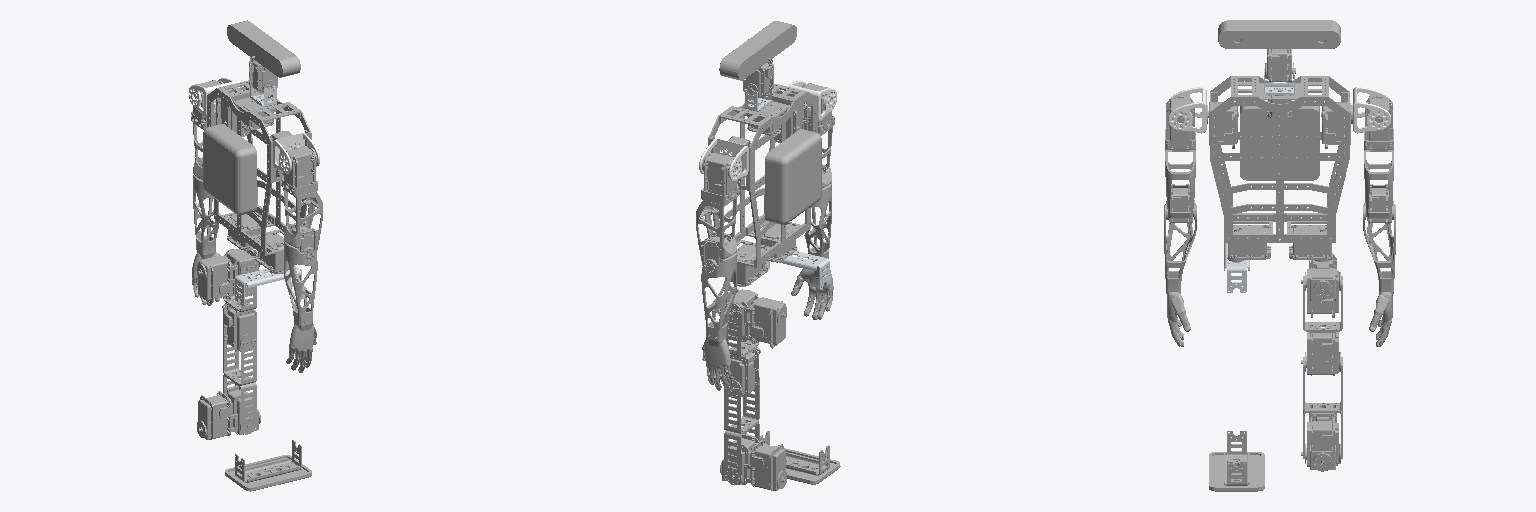
--- Facts derived from the render (not from the file) ---
3 views of the same robot in one strip: view 1: azimuth 30°, elevation 25°; view 2: azimuth 150°, elevation 25°; view 3: azimuth 270°, elevation 25° (orthographic).
Robot: humanoid — 21 links, 20 joints (20 continuous); root link torso; default pose: all joints at 0.
Visible links, largest first — view 1: torso, arm_r_shou_r, head_t, arm_r_elbow, leg_r_ankle_r, leg_l_ankle_p, leg_l_hip_r, leg_l_knee, leg_l_hip_p, arm_l_elbow, arm_r_shou_p, leg_r_hip_y (+2 smaller); view 2: torso, arm_l_shou_r, head_t, arm_l_elbow, leg_l_ankle_p, leg_l_hip_r, arm_r_elbow, leg_l_knee, leg_l_hip_p, leg_r_ankle_r, arm_l_shou_p, arm_r_shou_r (+2 smaller); view 3: torso, head_t, arm_r_shou_r, arm_l_shou_r, leg_r_ankle_r, arm_r_elbow, arm_l_elbow, leg_l_hip_p, leg_l_ankle_p, leg_l_hip_r, arm_r_shou_p, arm_l_shou_p (+2 smaller).
Link boxes in pixels (bbox=[...]): torso: bbox=[203, 80, 311, 273]; arm_r_shou_r: bbox=[281, 146, 322, 255]; head_t: bbox=[227, 20, 300, 94]; arm_r_elbow: bbox=[284, 241, 317, 372]; leg_r_ankle_r: bbox=[225, 440, 311, 491]; leg_l_ankle_p: bbox=[197, 386, 260, 439]; leg_l_hip_r: bbox=[197, 249, 260, 303]; leg_l_knee: bbox=[223, 339, 256, 429]; leg_l_hip_p: bbox=[222, 266, 256, 351]; arm_l_elbow: bbox=[192, 175, 219, 305]; arm_r_shou_p: bbox=[273, 133, 319, 173]; leg_r_hip_y: bbox=[235, 266, 301, 305]; torso: bbox=[708, 84, 821, 286]; arm_l_shou_r: bbox=[696, 153, 739, 268]; head_t: bbox=[719, 21, 796, 97]; arm_l_elbow: bbox=[701, 252, 736, 390]; leg_l_ankle_p: bbox=[720, 434, 786, 490]; leg_l_hip_r: bbox=[725, 289, 786, 348]; arm_r_elbow: bbox=[791, 183, 833, 319]; leg_l_knee: bbox=[724, 377, 759, 480]; leg_l_hip_p: bbox=[724, 308, 760, 397]; leg_r_ankle_r: bbox=[760, 431, 840, 484]; arm_l_shou_p: bbox=[699, 138, 748, 181]; arm_r_shou_r: bbox=[800, 83, 834, 187]; torso: bbox=[1207, 76, 1352, 261]; head_t: bbox=[1218, 20, 1340, 81]; arm_r_shou_r: bbox=[1165, 96, 1195, 223]; arm_l_shou_r: bbox=[1364, 96, 1393, 223]; leg_r_ankle_r: bbox=[1209, 431, 1264, 491]; arm_r_elbow: bbox=[1164, 200, 1196, 346]; arm_l_elbow: bbox=[1363, 201, 1395, 346]; leg_l_hip_p: bbox=[1301, 276, 1342, 375]; leg_l_ankle_p: bbox=[1301, 413, 1340, 471]; leg_l_hip_r: bbox=[1301, 253, 1342, 317]; arm_r_shou_p: bbox=[1168, 87, 1206, 133]; arm_l_shou_p: bbox=[1353, 87, 1390, 133].
Size in the robot's own frame: 0.12 by 0.3297 by 0.7175 metres.
15 mesh visuals loaded from 21 distinct referenced files (15 binary STL); not drawn: 6 (reference not matched to a file when rendering).

The robot description file, URDF, robot "humanoid":
<robot
  name="humanoid">
  <link name="torso">
    <inertial>
      <origin
        xyz="-0.0273890624666731 -6.24390539272213E-11 0.0090874604275595"
        rpy="0 0 0" />
      <mass
        value="1.79837714981727" />
      <inertia
        ixx="0.00965569591913053"
        ixy="2.62519057565357E-11"
        ixz="0.000466515313675841"
        iyy="0.00841839017045047"
        iyz="1.1590569581039E-11"
        izz="0.00428669058417288" />
    </inertial>
    <visual>
      <origin
        xyz="0 0 0"
        rpy="0 0 0" />
      <geometry>
        <mesh
          filename="package://humanoid/meshes/torso.STL" />
      </geometry>
      <material
        name="">
        <color
          rgba="0.752941176470588 0.752941176470588 0.752941176470588 1" />
      </material>
    </visual>
    <collision>
      <origin
        xyz="0 0 0"
        rpy="0 0 0" />
      <geometry>
        <mesh
          filename="package://humanoid/meshes/torso.STL" />
      </geometry>
    </collision>
  </link>
  <link
    name="head_p">
    <inertial>
      <origin
        xyz="-2.77555756156289E-17 -2.77555756156289E-17 -0.0235358644573578"
        rpy="0 0 0" />
      <mass
        value="0.00919745164566107" />
      <inertia
        ixx="0"
        ixy="0"
        ixz="0"
        iyy="0"
        iyz="0"
        izz="0" />
    </inertial>
    <visual>
      <origin
        xyz="0 0 0"
        rpy="0 0 0" />
      <geometry>
        <mesh
          filename="package://humanoid/meshes/head_p.STL" />
      </geometry>
      <material
        name="">
        <color
          rgba="0.898039215686275 0.917647058823529 0.929411764705882 1" />
      </material>
    </visual>
    <collision>
      <origin
        xyz="0 0 0"
        rpy="0 0 0" />
      <geometry>
        <mesh
          filename="package://humanoid/meshes/head_p.STL" />
      </geometry>
    </collision>
  </link>
  <joint
    name="j_head_p"
    type="continuous">
    <origin
      xyz="0.00749999999999998 0 0.154592980337507"
      rpy="-5.40227318867849E-16 3.26570417148563E-16 1.11022302462516E-16" />
    <parent
      link="torso" />
    <child
      link="head_p" />
    <axis
      xyz="0 0 1" />
  </joint>
  <link
    name="head_t">
    <inertial>
      <origin
        xyz="0.000362537622920212 6.79783928278499E-06 0.0434079674333546"
        rpy="0 0 0" />
      <mass
        value="0.250310857747946" />
      <inertia
        ixx="0.000109893254796935"
        ixy="6.15726205395829E-10"
        ixz="-1.29430349863509E-06"
        iyy="0.000109000514641629"
        iyz="9.79402169676494E-08"
        izz="9.33135190800592E-07" />
    </inertial>
    <visual>
      <origin
        xyz="0 0 0"
        rpy="0 0 0" />
      <geometry>
        <mesh
          filename="package://humanoid/meshes/head_t.STL" />
      </geometry>
      <material
        name="">
        <color
          rgba="0.752941176470588 0.752941176470588 0.752941176470588 1" />
      </material>
    </visual>
    <collision>
      <origin
        xyz="0 0 0"
        rpy="0 0 0" />
      <geometry>
        <mesh
          filename="package://humanoid/meshes/head_t.STL" />
      </geometry>
    </collision>
  </link>
  <joint
    name="j_head_t"
    type="continuous">
    <origin
      xyz="0 -0.000250000000004302 0"
      rpy="1.98830324825673E-16 -4.37592719611079E-16 -1.11022302462516E-16" />
    <parent
      link="head_p" />
    <child
      link="head_t" />
    <axis
      xyz="0 1 0" />
  </joint>
  <link
    name="leg_r_hip_y">
    <inertial>
      <origin
        xyz="-0.019 6.93889390390723E-18 0.0296849328442002"
        rpy="0 0 0" />
      <mass
        value="0.0310306790400135" />
      <inertia
        ixx="0"
        ixy="0"
        ixz="0"
        iyy="0"
        iyz="0"
        izz="0" />
    </inertial>
    <visual>
      <origin
        xyz="0 0 0"
        rpy="0 0 0" />
      <geometry>
        <mesh
          filename="package://humanoid/meshes/leg_r_hip_y.STL" />
      </geometry>
      <material
        name="">
        <color
          rgba="0.898039215686275 0.917647058823529 0.929411764705882 1" />
      </material>
    </visual>
    <collision>
      <origin
        xyz="0 0 0"
        rpy="0 0 0" />
      <geometry>
        <mesh
          filename="package://humanoid/meshes/leg_r_hip_y.STL" />
      </geometry>
    </collision>
  </link>
  <joint
    name="j_leg_r_hip_y"
    type="continuous">
    <origin
      xyz="0 -0.0612500000000002 -0.179371019662496"
      rpy="-3.41396994042176E-16 0 0" />
    <parent
      link="torso" />
    <child
      link="leg_r_hip_y" />
    <axis
      xyz="0 0 -1" />
  </joint>
  <link
    name="leg_r_hip_r">
    <inertial>
      <origin
        xyz="-0.0199386693707081 8.18688971842077E-05 -0.0148029204359108"
        rpy="0 0 0" />
      <mass
        value="0.327163601832517" />
      <inertia
        ixx="7.62597114711917E-06"
        ixy="-5.58485632325043E-07"
        ixz="-1.06787629028062E-05"
        iyy="0.000186208035995009"
        iyz="-1.51343454864388E-06"
        izz="0.000185497003559403" />
    </inertial>
    <visual>
      <origin
        xyz="0 0 0"
        rpy="0 0 0" />
      <geometry>
        <mesh
          filename="package://humanoid/meshes/leg_r_hip_r.STL" />
      </geometry>
      <material
        name="">
        <color
          rgba="0.752941176470588 0.752941176470588 0.752941176470588 1" />
      </material>
    </visual>
    <collision>
      <origin
        xyz="0 0 0"
        rpy="0 0 0" />
      <geometry>
        <mesh
          filename="package://humanoid/meshes/leg_r_hip_r.STL" />
      </geometry>
    </collision>
  </link>
  <joint
    name="j_leg_r_hip_r"
    type="continuous">
    <origin
      xyz="0.000499999999999945 0 0"
      rpy="1.13124042283043E-16 -2.61242557992875E-16 6.50156804127527E-17" />
    <parent
      link="leg_r_hip_y" />
    <child
      link="leg_r_hip_r" />
    <axis
      xyz="1 0 0" />
  </joint>
  <link
    name="leg_r_hip_p">
    <inertial>
      <origin
        xyz="-4.73613010784357E-05 0.000146666146782187 -0.10142537495828"
        rpy="0 0 0" />
      <mass
        value="0.187828254323874" />
      <inertia
        ixx="9.89657264075222E-05"
        ixy="-1.56062320516749E-09"
        ixz="2.1852497720039E-07"
        iyy="9.65248837003217E-05"
        iyz="1.78170551469187E-06"
        izz="2.45902731639314E-06" />
    </inertial>
    <visual>
      <origin
        xyz="0 0 0"
        rpy="0 0 0" />
      <geometry>
        <mesh
          filename="package://humanoid/meshes/leg_r_hip_p.STL" />
      </geometry>
      <material
        name="">
        <color
          rgba="0.752941176470588 0.752941176470588 0.752941176470588 1" />
      </material>
    </visual>
    <collision>
      <origin
        xyz="0 0 0"
        rpy="0 0 0" />
      <geometry>
        <mesh
          filename="package://humanoid/meshes/leg_r_hip_p.STL" />
      </geometry>
    </collision>
  </link>
  <joint
    name="j_leg_r_hip_p"
    type="continuous">
    <origin
      xyz="0 0 0"
      rpy="-1.13124042283043E-16 2.15500304946813E-16 -1.04264380931413E-17" />
    <parent
      link="leg_r_hip_r" />
    <child
      link="leg_r_hip_p" />
    <axis
      xyz="0 1 0" />
  </joint>
  <link
    name="leg_r_knee">
    <inertial>
      <origin
        xyz="6.10622663543836E-16 4.16333634234434E-17 -0.0720000000000057"
        rpy="0 0 0" />
      <mass
        value="0.0471244364483381" />
      <inertia
        ixx="3.47240331970278E-05"
        ixy="2.08114259181133E-24"
        ixz="6.38005899850245E-21"
        iyy="3.47240295022833E-05"
        iyz="-1.13268007040326E-08"
        izz="3.69474441842752E-12" />
    </inertial>
    <visual>
      <origin
        xyz="0 0 0"
        rpy="0 0 0" />
      <geometry>
        <mesh
          filename="package://humanoid/meshes/leg_r_knee.STL" />
      </geometry>
      <material
        name="">
        <color
          rgba="0.752941176470588 0.752941176470588 0.752941176470588 1" />
      </material>
    </visual>
    <collision>
      <origin
        xyz="0 0 0"
        rpy="0 0 0" />
      <geometry>
        <mesh
          filename="package://humanoid/meshes/leg_r_knee.STL" />
      </geometry>
    </collision>
  </link>
  <joint
    name="j_leg_r_knee"
    type="continuous">
    <origin
      xyz="0 0 -0.12650000000002"
      rpy="-1.66533453693773E-16 -2.81587712202917E-16 4.90950377141293E-16" />
    <parent
      link="leg_r_hip_p" />
    <child
      link="leg_r_knee" />
    <axis
      xyz="0 1 0" />
  </joint>
  <link
    name="leg_r_ankle_p">
    <inertial>
      <origin
        xyz="-0.019967775832417 8.5312065049449E-05 0.0148115624874952"
        rpy="0 0 0" />
      <mass
        value="0.326972712808706" />
      <inertia
        ixx="7.58393095523023E-06"
        ixy="-5.32557584809135E-07"
        ixz="1.05552686931231E-05"
        iyy="0.00018575582149946"
        iyz="1.51216245176916E-06"
        izz="0.000185086455382627" />
    </inertial>
    <visual>
      <origin
        xyz="0 0 0"
        rpy="0 0 0" />
      <geometry>
        <mesh
          filename="package://humanoid/meshes/leg_r_ankle_p.STL" />
      </geometry>
      <material
        name="">
        <color
          rgba="0.752941176470588 0.752941176470588 0.752941176470588 1" />
      </material>
    </visual>
    <collision>
      <origin
        xyz="0 0 0"
        rpy="0 0 0" />
      <geometry>
        <mesh
          filename="package://humanoid/meshes/leg_r_ankle_p.STL" />
      </geometry>
    </collision>
  </link>
  <joint
    name="j_leg_r_ankle_p"
    type="continuous">
    <origin
      xyz="0 0 -0.144000000000011"
      rpy="2.77555756156288E-17 9.37952628792816E-16 -4.34517316998388E-16" />
    <parent
      link="leg_r_knee" />
    <child
      link="leg_r_ankle_p" />
    <axis
      xyz="0 -1 0" />
  </joint>
  <link
    name="leg_r_ankle_r">
    <inertial>
      <origin
        xyz="-0.0195052351132241 2.08166817117217E-17 -0.035336618625496"
        rpy="0 0 0" />
      <mass
        value="0.08603420971545" />
      <inertia
        ixx="1.55034338934218E-06"
        ixy="1.67488937898155E-23"
        ixz="-1.4360711995626E-09"
        iyy="1.55034471956392E-06"
        iyz="1.80816499723242E-20"
        izz="1.33022174596314E-12" />
    </inertial>
    <visual>
      <origin
        xyz="0 0 0"
        rpy="0 0 0" />
      <geometry>
        <mesh
          filename="package://humanoid/meshes/leg_r_ankle_r.STL" />
      </geometry>
      <material
        name="">
        <color
          rgba="0.752941176470588 0.752941176470588 0.752941176470588 1" />
      </material>
    </visual>
    <collision>
      <origin
        xyz="0 0 0"
        rpy="0 0 0" />
      <geometry>
        <mesh
          filename="package://humanoid/meshes/leg_r_ankle_r.STL" />
      </geometry>
    </collision>
  </link>
  <joint
    name="j_leg_r_ankle_r"
    type="continuous">
    <origin
      xyz="0 0 0"
      rpy="2.4980018054066E-16 -1.39663998698079E-15 -5.70601140040284E-17" />
    <parent
      link="leg_r_ankle_p" />
    <child
      link="leg_r_ankle_r" />
    <axis
      xyz="-1 0 0" />
  </joint>
  <link
    name="leg_l_hip_y">
    <inertial>
      <origin
        xyz="-0.019 0 0.0296849328442002"
        rpy="0 0 0" />
      <mass
        value="0.0310306790400135" />
      <inertia
        ixx="0"
        ixy="0"
        ixz="0"
        iyy="0"
        iyz="0"
        izz="0" />
    </inertial>
    <visual>
      <origin
        xyz="0 0 0"
        rpy="0 0 0" />
      <geometry>
        <mesh
          filename="package://humanoid/meshes/leg_l_hip_y.STL" />
      </geometry>
      <material
        name="">
        <color
          rgba="0.898039215686275 0.917647058823529 0.929411764705882 1" />
      </material>
    </visual>
    <collision>
      <origin
        xyz="0 0 0"
        rpy="0 0 0" />
      <geometry>
        <mesh
          filename="package://humanoid/meshes/leg_l_hip_y.STL" />
      </geometry>
    </collision>
  </link>
  <joint
    name="j_leg_l_hip_y"
    type="continuous">
    <origin
      xyz="0 0.06125 -0.179371019662496"
      rpy="-3.41725588386687E-16 1.40441582496151E-19 -4.79463341027122E-35" />
    <parent
      link="torso" />
    <child
      link="leg_l_hip_y" />
    <axis
      xyz="0 0 -1" />
  </joint>
  <link
    name="leg_l_hip_r">
    <inertial>
      <origin
        xyz="-0.0199386693707081 8.18688971842285E-05 -0.0148029204359109"
        rpy="0 0 0" />
      <mass
        value="0.327163601832517" />
      <inertia
        ixx="7.62597114711925E-06"
        ixy="-5.58485632324876E-07"
        ixz="-1.06787629028065E-05"
        iyy="0.00018620803599501"
        iyz="-1.51343454864386E-06"
        izz="0.000185497003559403" />
    </inertial>
    <visual>
      <origin
        xyz="0 0 0"
        rpy="0 0 0" />
      <geometry>
        <mesh
          filename="package://humanoid/meshes/leg_l_hip_r.STL" />
      </geometry>
      <material
        name="">
        <color
          rgba="0.752941176470588 0.752941176470588 0.752941176470588 1" />
      </material>
    </visual>
    <collision>
      <origin
        xyz="0 0 0"
        rpy="0 0 0" />
      <geometry>
        <mesh
          filename="package://humanoid/meshes/leg_l_hip_r.STL" />
      </geometry>
    </collision>
  </link>
  <joint
    name="j_leg_l_hip_r"
    type="continuous">
    <origin
      xyz="0.000499999999999973 0 0"
      rpy="1.06513742723647E-16 -2.61266749644178E-16 5.93124751222884E-17" />
    <parent
      link="leg_l_hip_y" />
    <child
      link="leg_l_hip_r" />
    <axis
      xyz="1 0 0" />
  </joint>
  <link
    name="leg_l_hip_p">
    <inertial>
      <origin
        xyz="-4.73613010784357E-05 0.00014666614678216 -0.10142537495828"
        rpy="0 0 0" />
      <mass
        value="0.187828254323874" />
      <inertia
        ixx="9.89657264075226E-05"
        ixy="-1.56062320517169E-09"
        ixz="2.18524977200376E-07"
        iyy="9.65248837003221E-05"
        iyz="1.78170551469195E-06"
        izz="2.45902731639314E-06" />
    </inertial>
    <visual>
      <origin
        xyz="0 0 0"
        rpy="0 0 0" />
      <geometry>
        <mesh
          filename="package://humanoid/meshes/leg_l_hip_p.STL" />
      </geometry>
      <material
        name="">
        <color
          rgba="0.752941176470588 0.752941176470588 0.752941176470588 1" />
      </material>
    </visual>
    <collision>
      <origin
        xyz="0 0 0"
        rpy="0 0 0" />
      <geometry>
        <mesh
          filename="package://humanoid/meshes/leg_l_hip_p.STL" />
      </geometry>
    </collision>
  </link>
  <joint
    name="j_leg_l_hip_p"
    type="continuous">
    <origin
      xyz="0 0 0"
      rpy="-1.22687743945067E-16 1.9173736902261E-16 7.3408853928096E-17" />
    <parent
      link="leg_l_hip_r" />
    <child
      link="leg_l_hip_p" />
    <axis
      xyz="0 1 0" />
  </joint>
  <link
    name="leg_l_knee">
    <inertial>
      <origin
        xyz="6.38378239159465E-16 2.77555756156289E-17 -0.0720000000000058"
        rpy="0 0 0" />
      <mass
        value="0.047124436448338" />
      <inertia
        ixx="3.47240331970279E-05"
        ixy="8.50467151160005E-23"
        ixz="-1.2053958230897E-20"
        iyy="3.47240295022834E-05"
        iyz="-1.13268007039894E-08"
        izz="3.69474441839934E-12" />
    </inertial>
    <visual>
      <origin
        xyz="0 0 0"
        rpy="0 0 0" />
      <geometry>
        <mesh
          filename="package://humanoid/meshes/leg_l_knee.STL" />
      </geometry>
      <material
        name="">
        <color
          rgba="0.752941176470588 0.752941176470588 0.752941176470588 1" />
      </material>
    </visual>
    <collision>
      <origin
        xyz="0 0 0"
        rpy="0 0 0" />
      <geometry>
        <mesh
          filename="package://humanoid/meshes/leg_l_knee.STL" />
      </geometry>
    </collision>
  </link>
  <joint
    name="j_leg_l_knee"
    type="continuous">
    <origin
      xyz="0 0 -0.1265"
      rpy="-3.57980314686197E-17 -3.19189119579732E-16 4.53547757052351E-16" />
    <parent
      link="leg_l_hip_p" />
    <child
      link="leg_l_knee" />
    <axis
      xyz="0 1 0" />
  </joint>
  <link
    name="leg_l_ankle_p">
    <inertial>
      <origin
        xyz="-0.0199677758324171 8.53120650493866E-05 0.0148115624874952"
        rpy="0 0 0" />
      <mass
        value="0.326972712808706" />
      <inertia
        ixx="7.58393095523036E-06"
        ixy="-5.32557584809384E-07"
        ixz="1.05552686931239E-05"
        iyy="0.000185755821499461"
        iyz="1.51216245176923E-06"
        izz="0.000185086455382628" />
    </inertial>
    <visual>
      <origin
        xyz="0 0 0"
        rpy="0 0 0" />
      <geometry>
        <mesh
          filename="package://humanoid/meshes/leg_l_ankle_p.STL" />
      </geometry>
      <material
        name="">
        <color
          rgba="0.752941176470588 0.752941176470588 0.752941176470588 1" />
      </material>
    </visual>
    <collision>
      <origin
        xyz="0 0 0"
        rpy="0 0 0" />
      <geometry>
        <mesh
          filename="package://humanoid/meshes/leg_l_ankle_p.STL" />
      </geometry>
    </collision>
  </link>
  <joint
    name="j_leg_l_ankle_p"
    type="continuous">
    <origin
      xyz="0 0 -0.144000000000011"
      rpy="-3.64033007199883E-16 9.99200722162641E-16 -4.19735632408962E-16" />
    <parent
      link="leg_l_knee" />
    <child
      link="leg_l_ankle_p" />
    <axis
      xyz="0 -1 0" />
  </joint>
  <link
    name="leg_l_ankle_r">
    <inertial>
      <origin
        xyz="-0.0195052351132241 2.77555756156289E-17 -0.0353366186254961"
        rpy="0 0 0" />
      <mass
        value="0.08603420971545" />
      <inertia
        ixx="1.55034338934221E-06"
        ixy="-4.26949572354957E-24"
        ixz="-1.43607119957663E-09"
        iyy="1.55034471956396E-06"
        iyz="-4.6092314035672E-21"
        izz="1.33022174598911E-12" />
    </inertial>
    <visual>
      <origin
        xyz="0 0 0"
        rpy="0 0 0" />
      <geometry>
        <mesh
          filename="package://humanoid/meshes/leg_l_ankle_r.STL" />
      </geometry>
      <material
        name="">
        <color
          rgba="0.752941176470588 0.752941176470588 0.752941176470588 1" />
      </material>
    </visual>
    <collision>
      <origin
        xyz="0 0 0"
        rpy="0 0 0" />
      <geometry>
        <mesh
          filename="package://humanoid/meshes/leg_l_ankle_r.STL" />
      </geometry>
    </collision>
  </link>
  <joint
    name="j_leg_l_ankle_r"
    type="continuous">
    <origin
      xyz="0 0 0"
      rpy="2.4980018054066E-16 -1.02028117652055E-15 -1.7762186294493E-18" />
    <parent
      link="leg_l_ankle_p" />
    <child
      link="leg_l_ankle_r" />
    <axis
      xyz="-1 0 0" />
  </joint>
  <link
    name="arm_r_shou_p">
    <inertial>
      <origin
        xyz="-0.00971572315740127 0.0232636812439506 0.00248658187310814"
        rpy="0 0 0" />
      <mass
        value="0.0265049875032748" />
      <inertia
        ixx="0"
        ixy="0"
        ixz="0"
        iyy="0"
        iyz="0"
        izz="0" />
    </inertial>
    <visual>
      <origin
        xyz="0 0 0"
        rpy="0 0 0" />
      <geometry>
        <mesh
          filename="package://humanoid/meshes/arm_r_shou_p.STL" />
      </geometry>
      <material
        name="">
        <color
          rgba="1 1 1 1" />
      </material>
    </visual>
    <collision>
      <origin
        xyz="0 0 0"
        rpy="0 0 0" />
      <geometry>
        <mesh
          filename="package://humanoid/meshes/arm_r_shou_p.STL" />
      </geometry>
    </collision>
  </link>
  <joint
    name="j_arm_r_shou_p"
    type="continuous">
    <origin
      xyz="0 -0.141338919000003 0.0828789803374983"
      rpy="-3.41396994042176E-16 0 0" />
    <parent
      link="torso" />
    <child
      link="arm_r_shou_p" />
    <axis
      xyz="0 1 0" />
  </joint>
  <link
    name="arm_r_shou_r">
    <inertial>
      <origin
        xyz="-0.00693976228444068 6.95136029715826E-06 -0.0644461862877316"
        rpy="0 0 0" />
      <mass
        value="0.233846079600851" />
      <inertia
        ixx="0.000818368072836307"
        ixy="-4.28237606045908E-09"
        ixz="3.48069980029283E-05"
        iyy="0.000820992782660462"
        iyz="1.75677549408184E-07"
        izz="4.45058683602632E-06" />
    </inertial>
    <visual>
      <origin
        xyz="0 0 0"
        rpy="0 0 0" />
      <geometry>
        <mesh
          filename="package://humanoid/meshes/arm_r_shou_r.STL" />
      </geometry>
      <material
        name="">
        <color
          rgba="0.752941176470588 0.752941176470588 0.752941176470588 1" />
      </material>
    </visual>
    <collision>
      <origin
        xyz="0 0 0"
        rpy="0 0 0" />
      <geometry>
        <mesh
          filename="package://humanoid/meshes/arm_r_shou_r.STL" />
      </geometry>
    </collision>
  </link>
  <joint
    name="j_arm_r_shou_r"
    type="continuous">
    <origin
      xyz="-0.000104304124999982 0 0"
      rpy="0 0 0" />
    <parent
      link="arm_r_shou_p" />
    <child
      link="arm_r_shou_r" />
    <axis
      xyz="1 0 0" />
  </joint>
  <link
    name="arm_r_elbow">
    <inertial>
      <origin
        xyz="-0.00512670543361113 -0.00677518273179854 -0.105559166000223"
        rpy="0 0 0" />
      <mass
        value="0.0660036002352666" />
      <inertia
        ixx="0.000169149561079679"
        ixy="4.66529988051378E-07"
        ixz="1.33012462127972E-05"
        iyy="0.000169988973199959"
        iyz="-5.92548862075287E-06"
        izz="1.25507514782134E-06" />
    </inertial>
    <visual>
      <origin
        xyz="0 0 0"
        rpy="0 0 0" />
      <geometry>
        <mesh
          filename="package://humanoid/meshes/arm_r_elbow.STL" />
      </geometry>
      <material
        name="">
        <color
          rgba="0.752941176470588 0.752941176470588 0.752941176470588 1" />
      </material>
    </visual>
    <collision>
      <origin
        xyz="0 0 0"
        rpy="0 0 0" />
      <geometry>
        <mesh
          filename="package://humanoid/meshes/arm_r_elbow.STL" />
      </geometry>
    </collision>
  </link>
  <joint
    name="j_arm_r_elbow"
    type="continuous">
    <origin
      xyz="-0.00416077518005581 0.000250000000000285 -0.155750000000015"
      rpy="1.8590512822718E-16 1.07986536379556E-12 5.63893510830468E-15" />
    <parent
      link="arm_r_shou_r" />
    <child
      link="arm_r_elbow" />
    <axis
      xyz="0 1 0" />
  </joint>
  <link
    name="arm_l_shou_p">
    <inertial>
      <origin
        xyz="-0.0097157471996559 -0.0232636988074812 0.00248650683809079"
        rpy="0 0 0" />
      <mass
        value="0.0265052286624278" />
      <inertia
        ixx="0"
        ixy="0"
        ixz="0"
        iyy="0"
        iyz="0"
        izz="0" />
    </inertial>
    <visual>
      <origin
        xyz="0 0 0"
        rpy="0 0 0" />
      <geometry>
        <mesh
          filename="package://humanoid/meshes/arm_l_shou_p.STL" />
      </geometry>
      <material
        name="">
        <color
          rgba="1 1 1 1" />
      </material>
    </visual>
    <collision>
      <origin
        xyz="0 0 0"
        rpy="0 0 0" />
      <geometry>
        <mesh
          filename="package://humanoid/meshes/arm_l_shou_p.STL" />
      </geometry>
    </collision>
  </link>
  <joint
    name="j_arm_l_shou_p"
    type="continuous">
    <origin
      xyz="0 0.141338919000003 0.0828789803374986"
      rpy="-3.41396994042176E-16 0 0" />
    <parent
      link="torso" />
    <child
      link="arm_l_shou_p" />
    <axis
      xyz="0 1 0" />
  </joint>
  <link
    name="arm_l_shou_r">
    <inertial>
      <origin
        xyz="-0.00693976228444099 6.95136013592612E-06 -0.064446186288791"
        rpy="0 0 0" />
      <mass
        value="0.233846079603485" />
      <inertia
        ixx="0.000818368072859065"
        ixy="-4.28237595601569E-09"
        ixz="3.48069980030393E-05"
        iyy="0.000820992782683196"
        iyz="1.7567754639665E-07"
        izz="4.45058683600802E-06" />
    </inertial>
    <visual>
      <origin
        xyz="0 0 0"
        rpy="0 0 0" />
      <geometry>
        <mesh
          filename="package://humanoid/meshes/arm_l_shou_r.STL" />
      </geometry>
      <material
        name="">
        <color
          rgba="0.752941176470588 0.752941176470588 0.752941176470588 1" />
      </material>
    </visual>
    <collision>
      <origin
        xyz="0 0 0"
        rpy="0 0 0" />
      <geometry>
        <mesh
          filename="package://humanoid/meshes/arm_l_shou_r.STL" />
      </geometry>
    </collision>
  </link>
  <joint
    name="j_arm_l_shou_r"
    type="continuous">
    <origin
      xyz="0 0 0"
      rpy="0 0 0" />
    <parent
      link="arm_l_shou_p" />
    <child
      link="arm_l_shou_r" />
    <axis
      xyz="1 0 0" />
  </joint>
  <link
    name="arm_l_elbow">
    <inertial>
      <origin
        xyz="-0.00512713985368948 0.00677513078810973 -0.105558133392576"
        rpy="0 0 0" />
      <mass
        value="0.0660042396649519" />
      <inertia
        ixx="0.000169152316204233"
        ixy="-4.66529921444557E-07"
        ixz="1.33030657569407E-05"
        iyy="0.000169992050899239"
        iyz="5.92477580349958E-06"
        izz="1.25529081427723E-06" />
    </inertial>
    <visual>
      <origin
        xyz="0 0 0"
        rpy="0 0 0" />
      <geometry>
        <mesh
          filename="package://humanoid/meshes/arm_l_elbow.STL" />
      </geometry>
      <material
        name="">
        <color
          rgba="0.752941176470588 0.752941176470588 0.752941176470588 1" />
      </material>
    </visual>
    <collision>
      <origin
        xyz="0 0 0"
        rpy="0 0 0" />
      <geometry>
        <mesh
          filename="package://humanoid/meshes/arm_l_elbow.STL" />
      </geometry>
    </collision>
  </link>
  <joint
    name="j_arm_l_elbow"
    type="continuous">
    <origin
      xyz="-0.00416077518006452 0.000250000000001332 -0.15575000000001"
      rpy="0 0 -8.09940774021887E-13" />
    <parent
      link="arm_l_shou_r" />
    <child
      link="arm_l_elbow" />
    <axis
      xyz="0 1 0" />
  </joint>
</robot>
